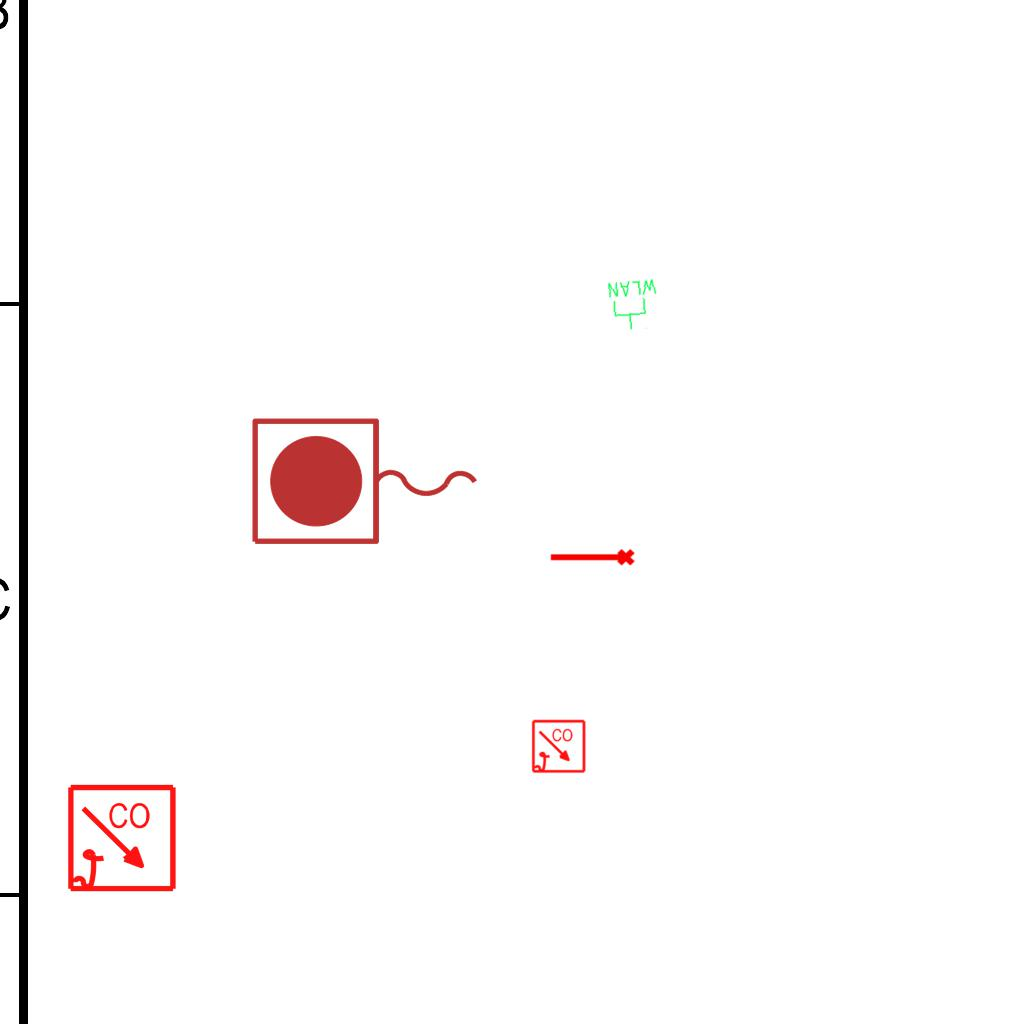ASR_Ansaugoeffnung: (548, 547, 636, 570)
ROA_Rauchmelder_optisch_mit_Signalgeber_(Sockelsirene): (66, 783, 179, 896), (531, 719, 587, 775)
WLAN: (605, 276, 663, 334)
Zugtaster: (244, 411, 488, 555)
